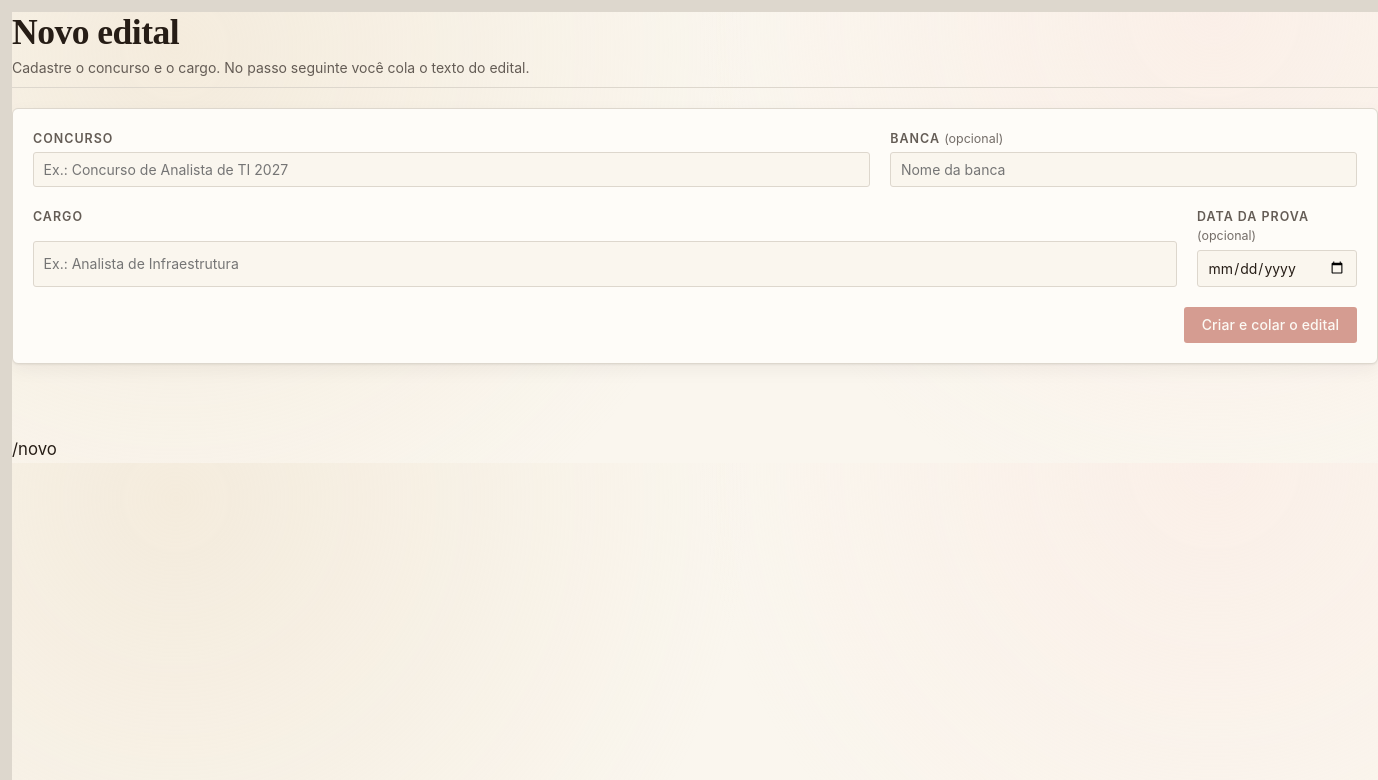
it: PaginaNovoEdital › falha na criacao mostra o erro e mantem o formulario
Type "Tribunal de Justiça" into the field labelled "Concurso" at (452, 170), box [33,152,870,187]
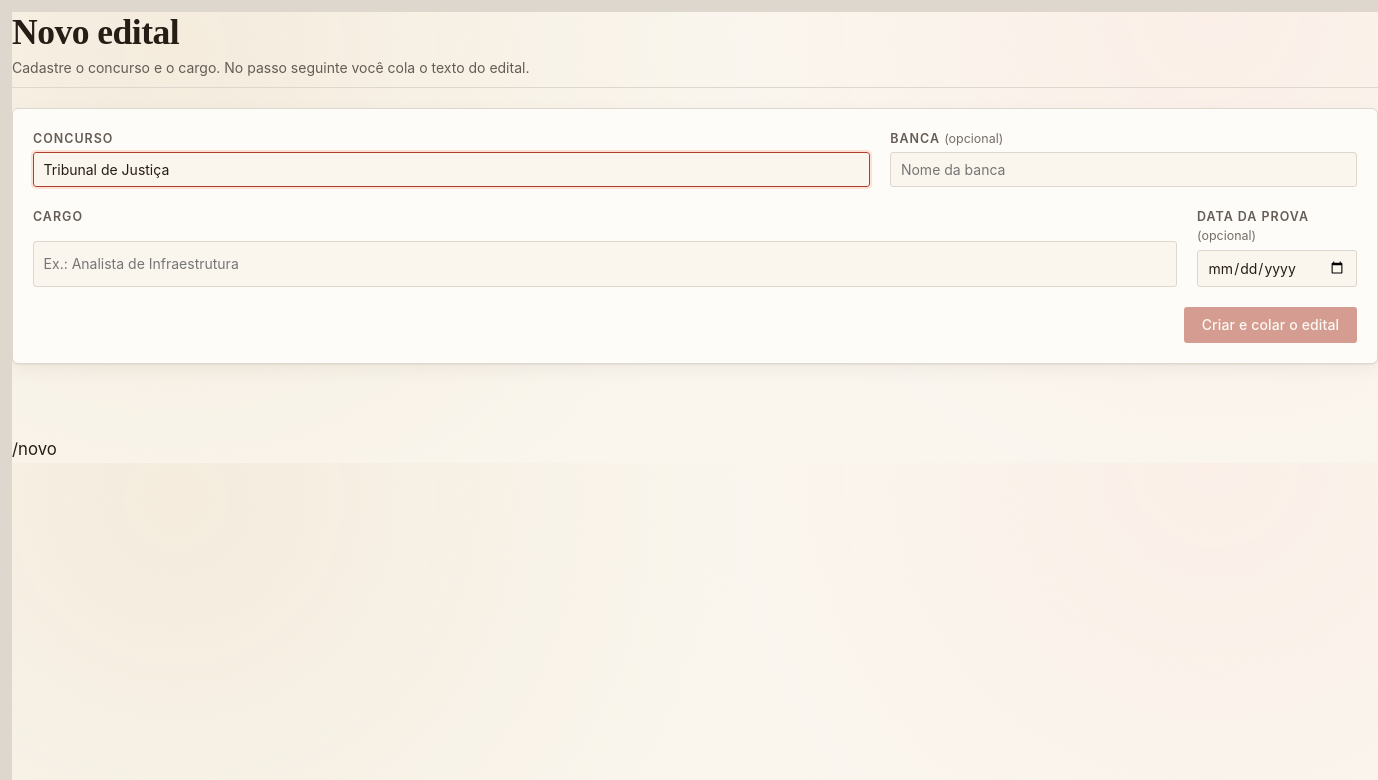
Type "Banca Alfa" into the field labelled "Banca (opcional)" at (1124, 170), box [890,152,1357,187]
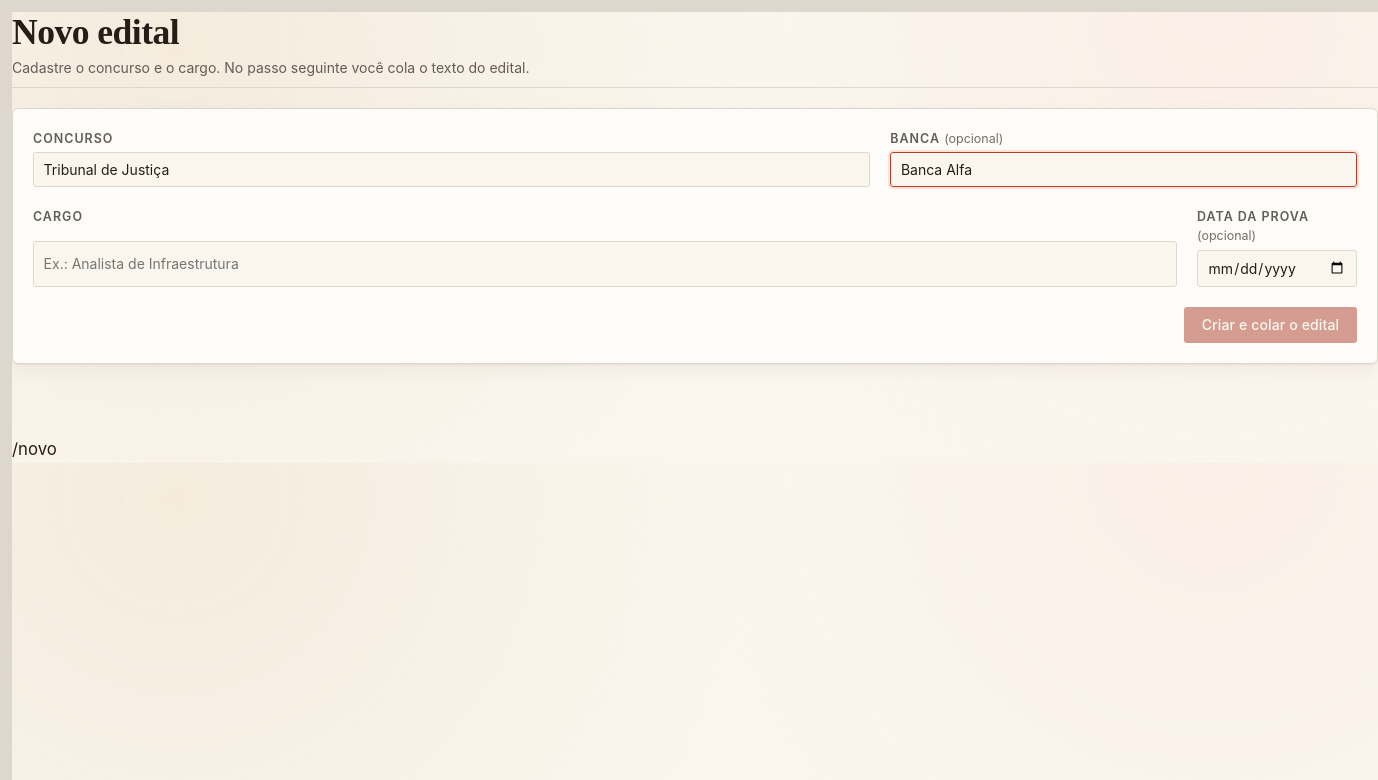
Type "Analista de TI" into the field labelled "Cargo" at (605, 264), box [33,241,1177,287]
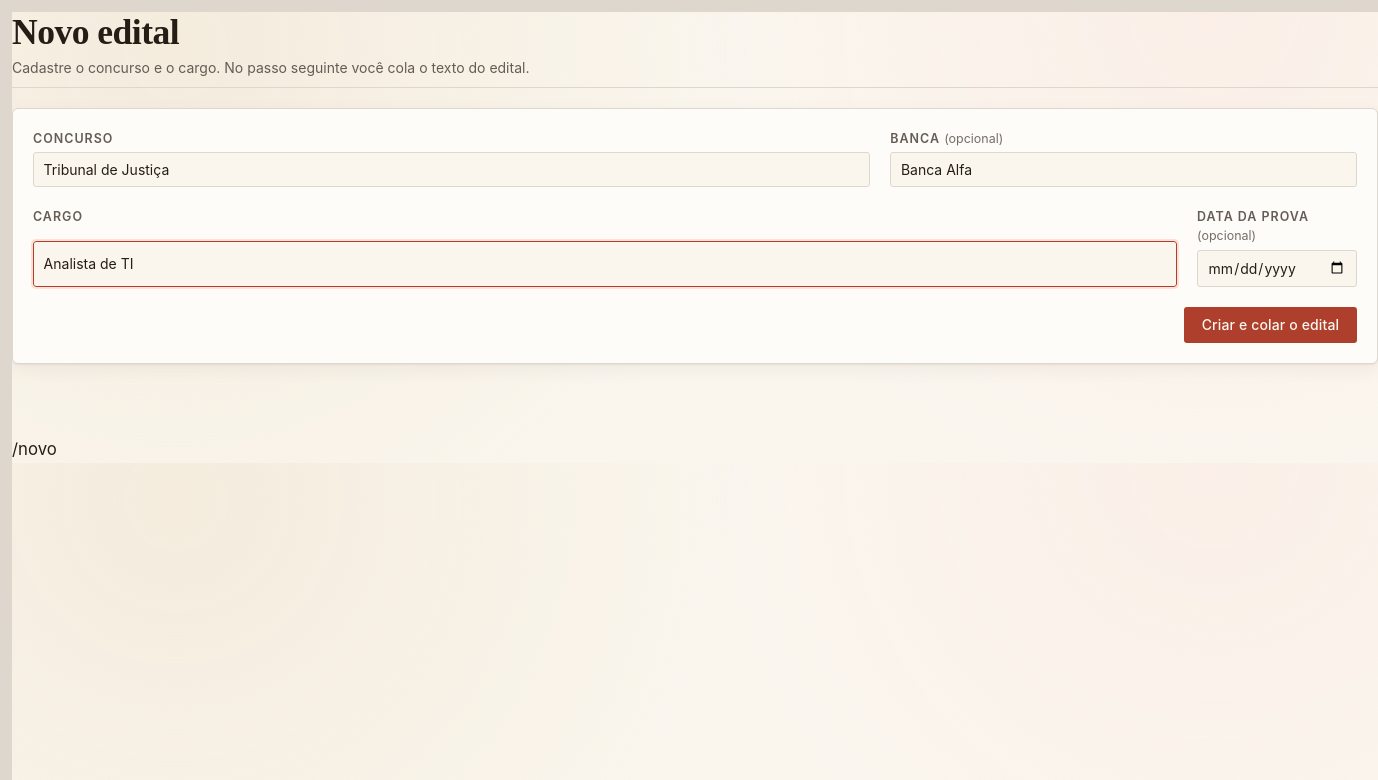
Click the button "Criar e colar o edital" at (1270, 325), box [1184,307,1357,343]
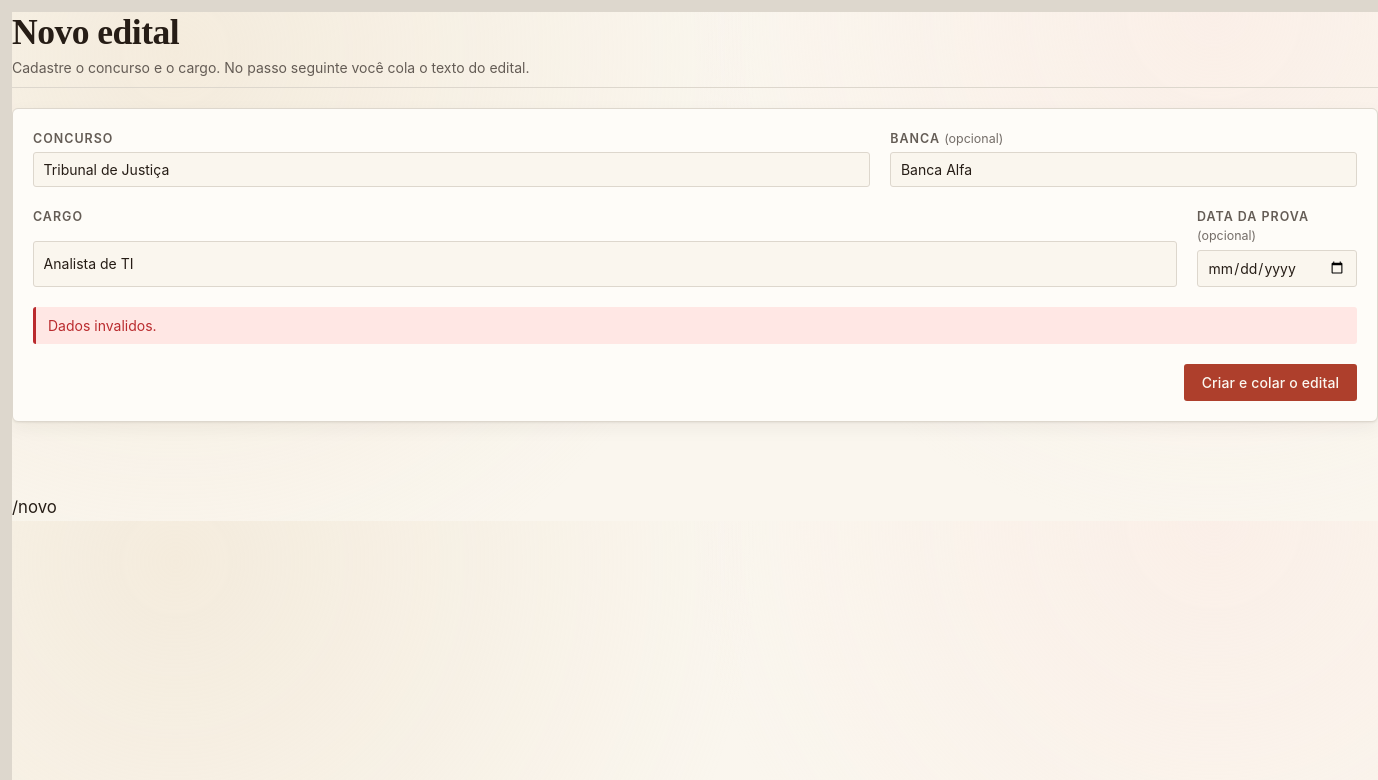
Expected: the text with test id "url" reads "/novo", [12,497,57,517]
Expected: the message reads "Dados invalidos.", [48,317,157,334]
